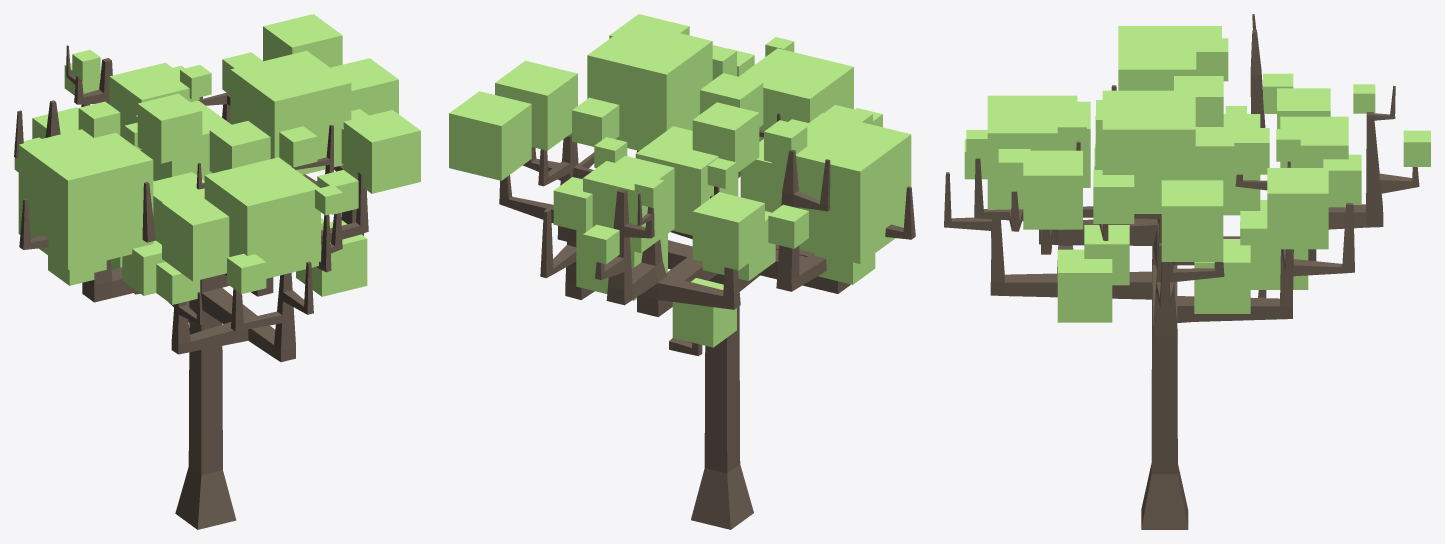
Rendered from healthy tree 1.3 FBX .fbx.
The picture shows the model from 3 angles, left to right: view 1: azimuth 30°, elevation 25°; view 2: azimuth 150°, elevation 25°; view 3: azimuth 270°, elevation 25°; orthographic projection. The views are drawn at different scales.
Parts seen in each view (by area): view 1: trunk; view 2: trunk; view 3: trunk.
Part boxes in pixels (<box>): trunk: <box>14,14,420,529</box>; trunk: <box>449,14,915,529</box>; trunk: <box>944,14,1430,529</box>.
Bounding box in the file's own units: 128 × 139 × 136.
